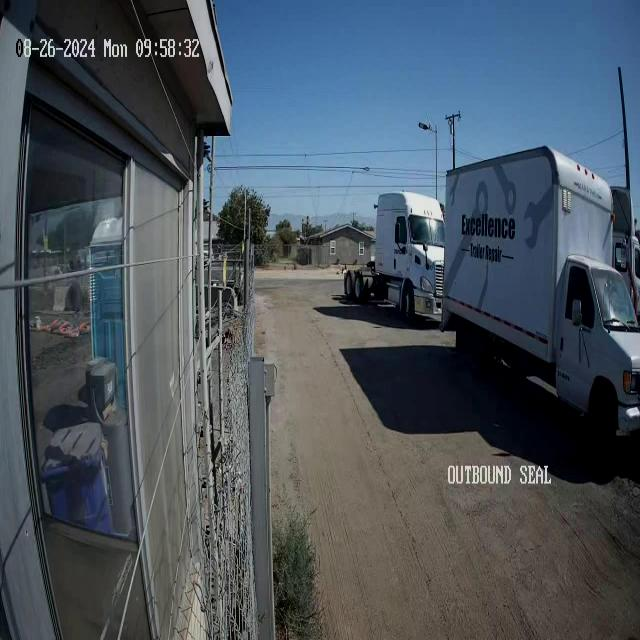CONTAINER: (440, 143, 615, 350)
